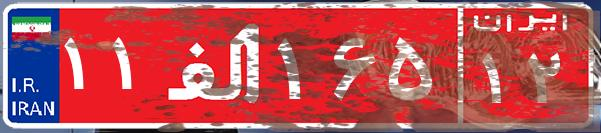1: (273, 28, 330, 110), (57, 26, 110, 107), (475, 38, 525, 113), (110, 28, 158, 105)
2: (525, 38, 570, 115)
5: (385, 28, 445, 110)
6: (330, 28, 385, 110)
الف: (158, 15, 273, 115)
